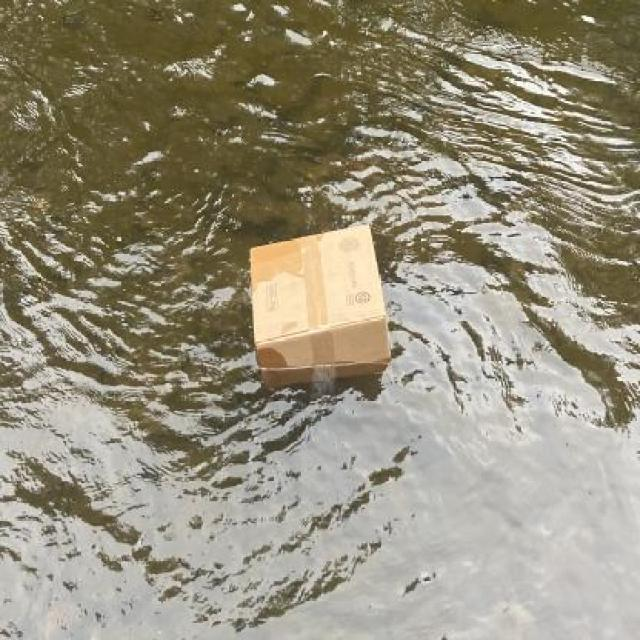Cardboard: (242, 213, 400, 389)
